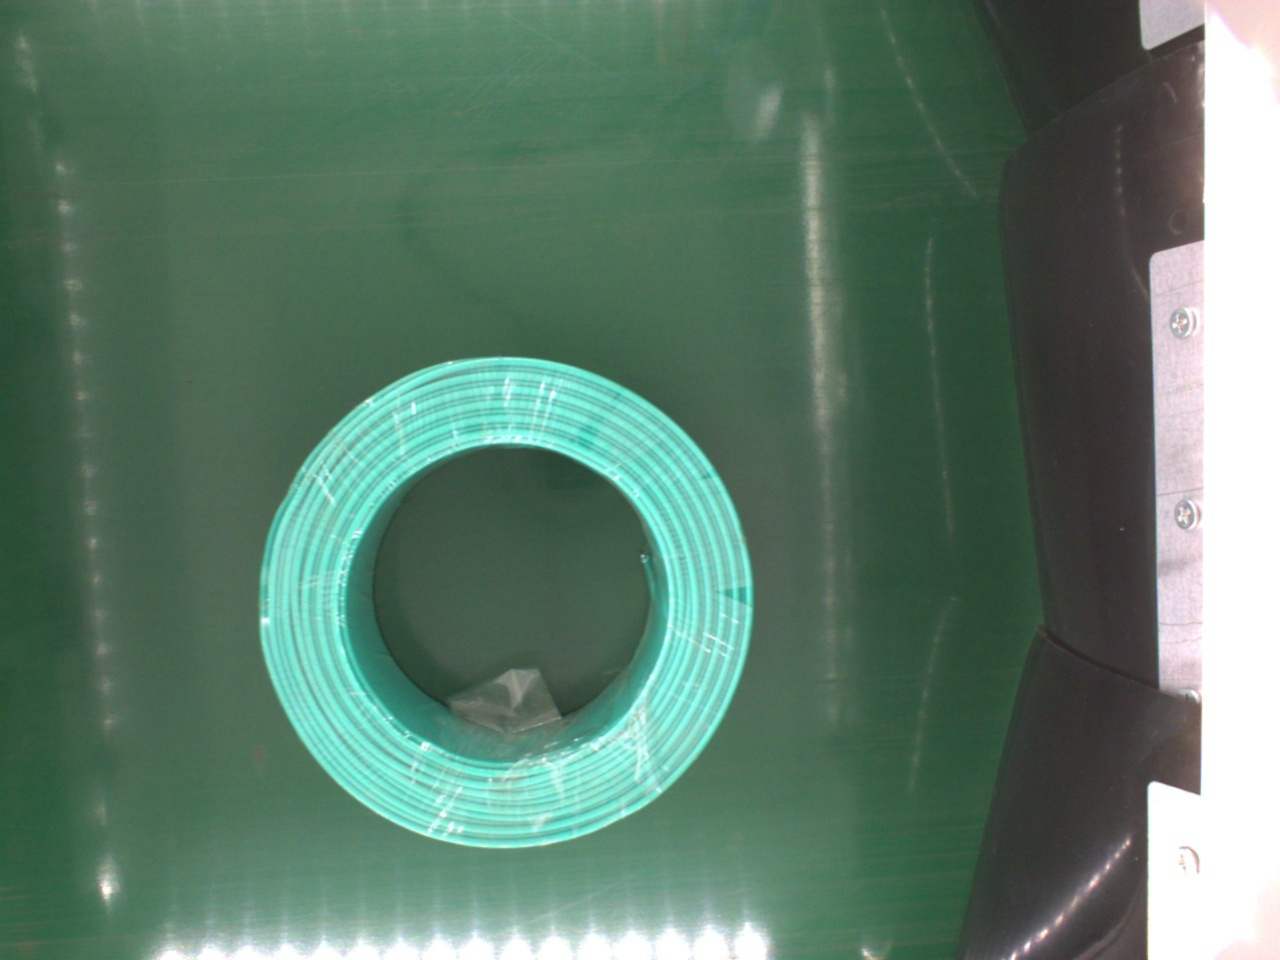green: (249, 355, 754, 856)
